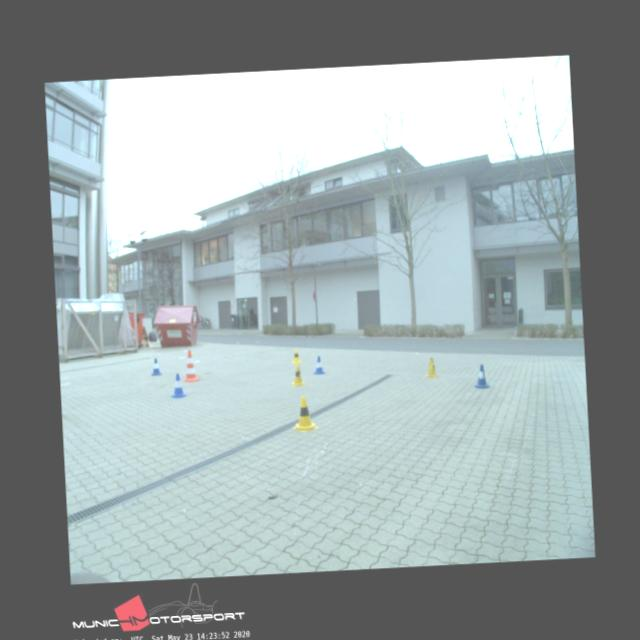blue_cone: (169, 372, 187, 398), (473, 364, 490, 389), (312, 355, 327, 376), (150, 358, 162, 377)
large_orange_cone: (181, 349, 200, 383)
yellow_cone: (290, 396, 318, 432), (291, 364, 305, 386), (426, 356, 438, 378), (292, 350, 302, 364)
